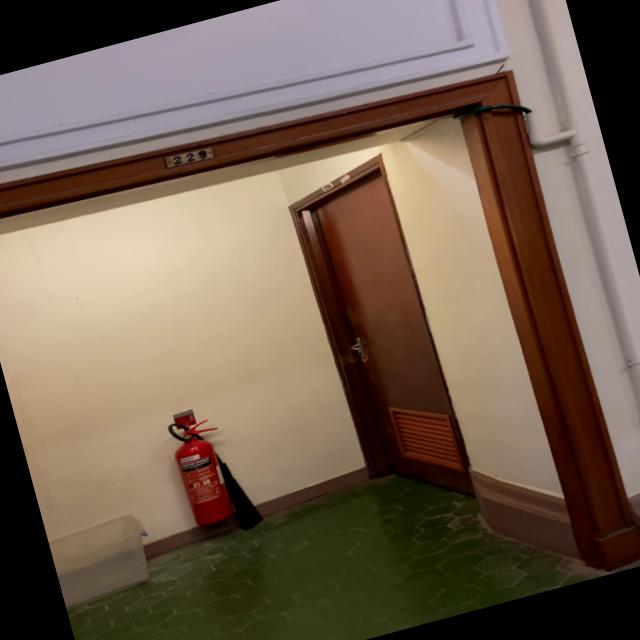room229: (160, 142, 220, 170)
